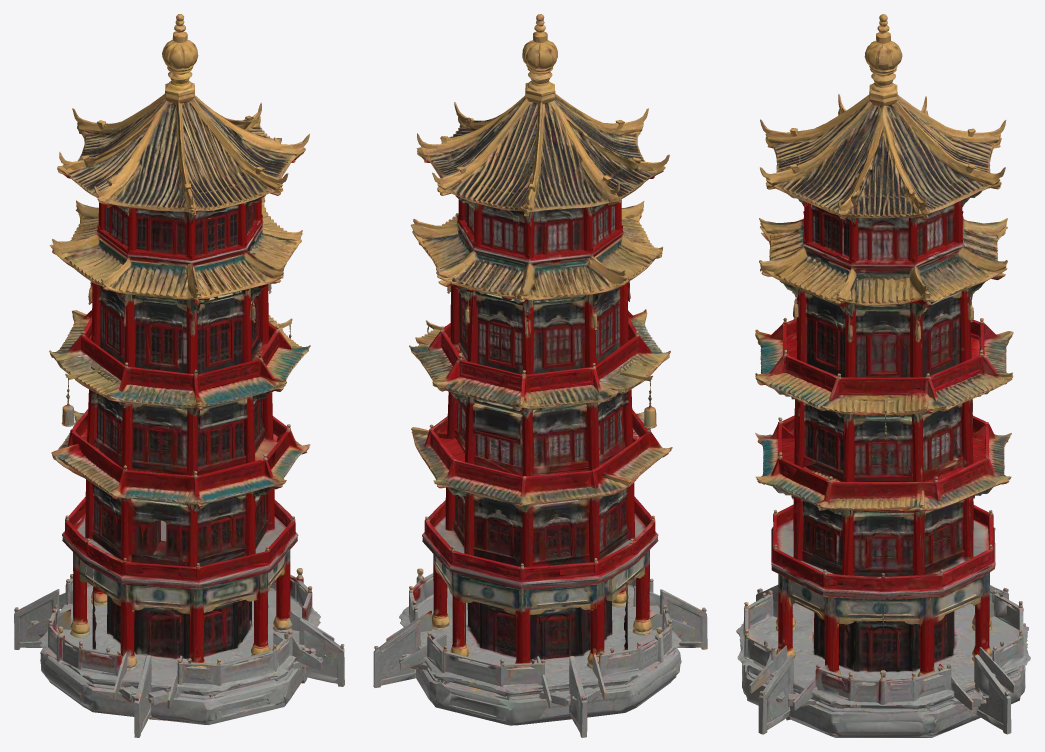
The model's file is tower_nine.glb.
3 renders of one model, left to right at view 1: azimuth 30°, elevation 25°; view 2: azimuth 150°, elevation 25°; view 3: azimuth 270°, elevation 25°, orthographic. The views are drawn at different scales.
Size of the model in its own units: 0.7557 by 1.9 by 0.762.
Materials: 1 (1 with a texture image).
